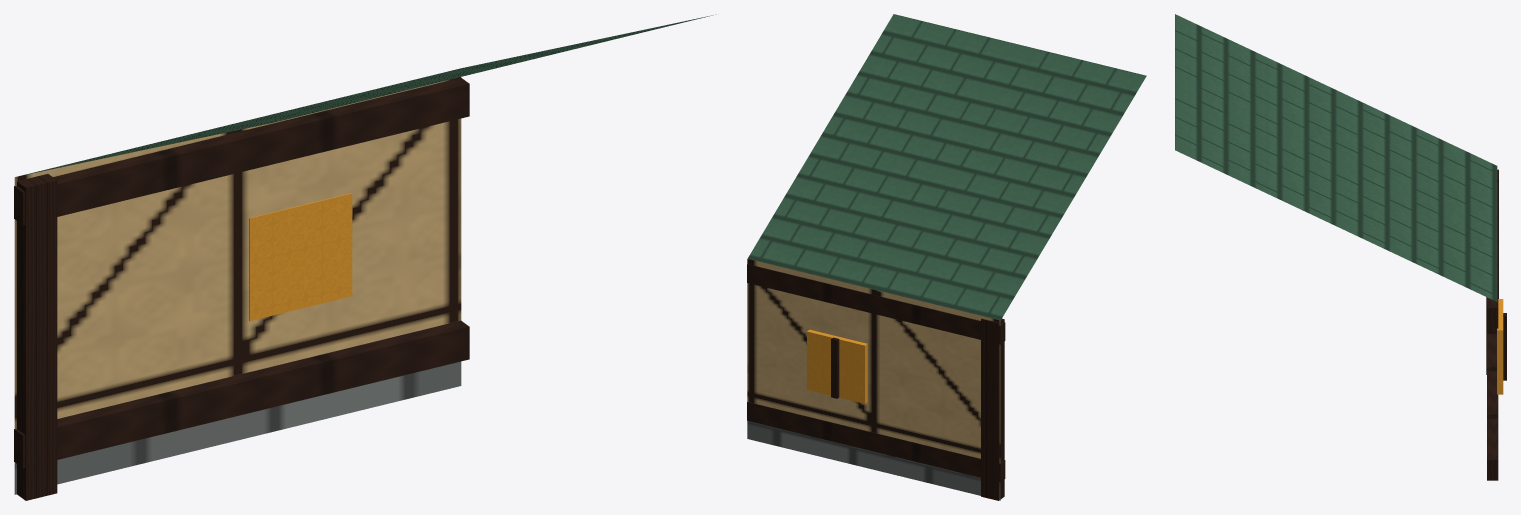
The model's file is SmartHouseEdge.fbx.
3 views of the same model, side by side, from view 1: azimuth 30°, elevation 25°; view 2: azimuth 150°, elevation 25°; view 3: azimuth 270°, elevation 25° (orthographic). The views are drawn at different scales.
Parts seen in each view (by area): view 1: SmartHouseEdge; view 2: SmartHouseEdge; view 3: SmartHouseEdge.
Boxes of the visible parts, x1,y1,x2,y2 form: SmartHouseEdge: [14, 14, 715, 500]; SmartHouseEdge: [747, 14, 1146, 500]; SmartHouseEdge: [1175, 14, 1506, 480].
Size of the model in its own units: 100 by 120 by 103.
